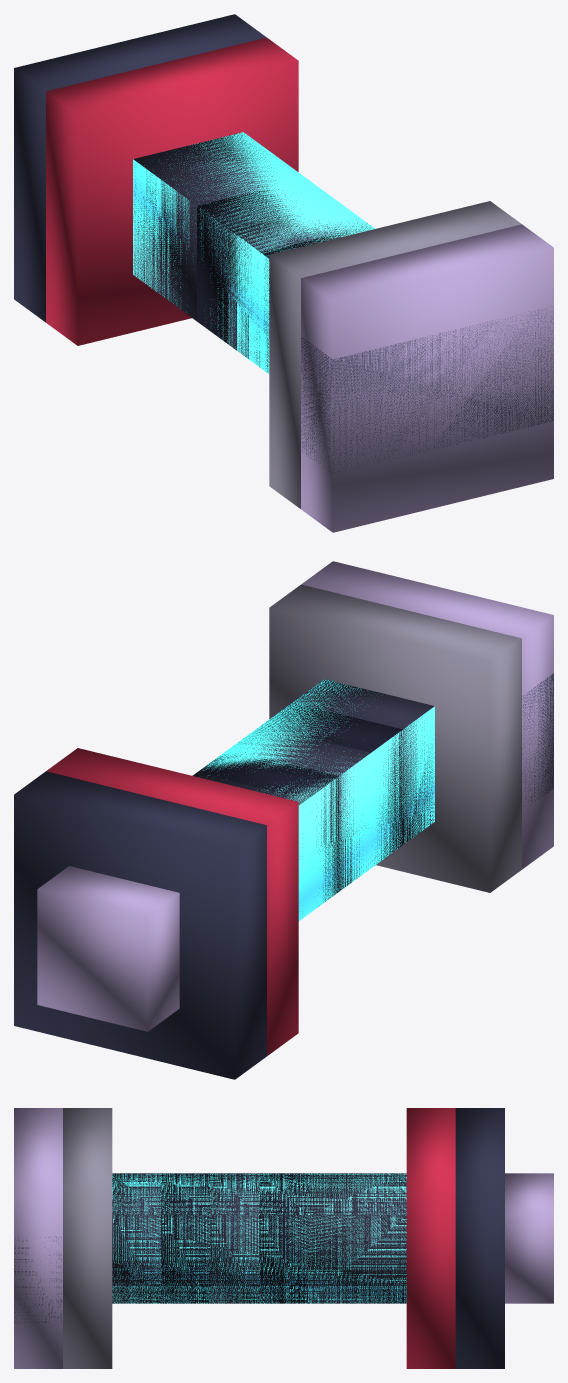
Rendered from baton.lod1.glb.
3 renders of one model, top to bottom at view 1: azimuth 30°, elevation 25°; view 2: azimuth 150°, elevation 25°; view 3: azimuth 270°, elevation 25°, orthographic. The views are drawn at different scales.
Visible parts, largest first — view 1: baton.body, part.blade; view 2: baton.body, part.blade; view 3: baton.body, part.blade.
Part boxes in pixels (box(x1,y1,x2,y2)): baton.body: box(14, 14, 553, 532); part.blade: box(133, 132, 553, 474); baton.body: box(14, 561, 553, 1079); part.blade: box(37, 673, 553, 1031); baton.body: box(14, 1108, 504, 1368); part.blade: box(14, 1173, 553, 1323).
Bounding box in the file's own units: 0.125 × 0.125 × 0.3438.
